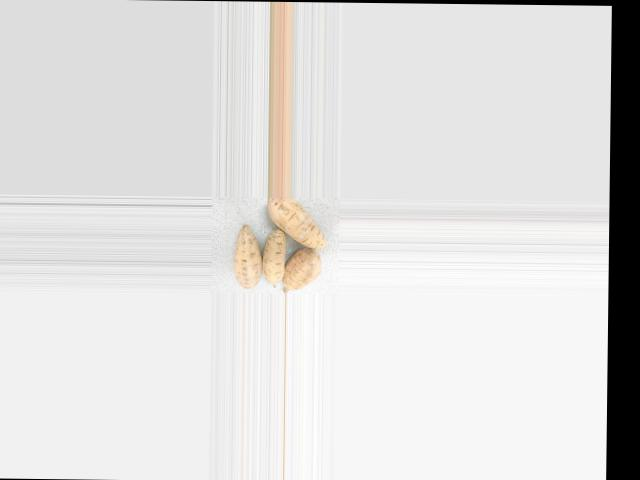sweet_potato: (260, 196, 332, 249)
